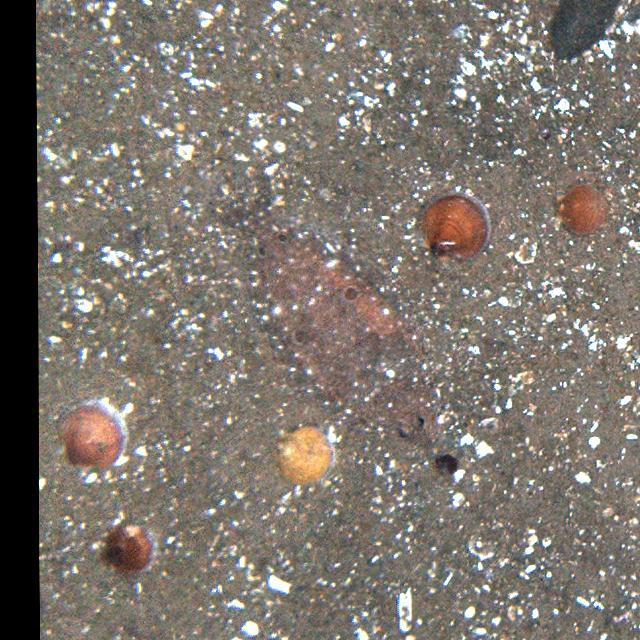flatfish: (216, 172, 444, 456)
